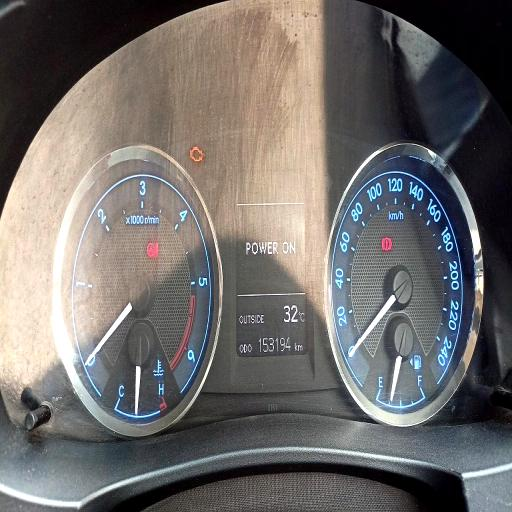brake_system_fault: (381, 237, 392, 251)
check_engine: (190, 145, 203, 163)
tachometer: (72, 173, 212, 418)
